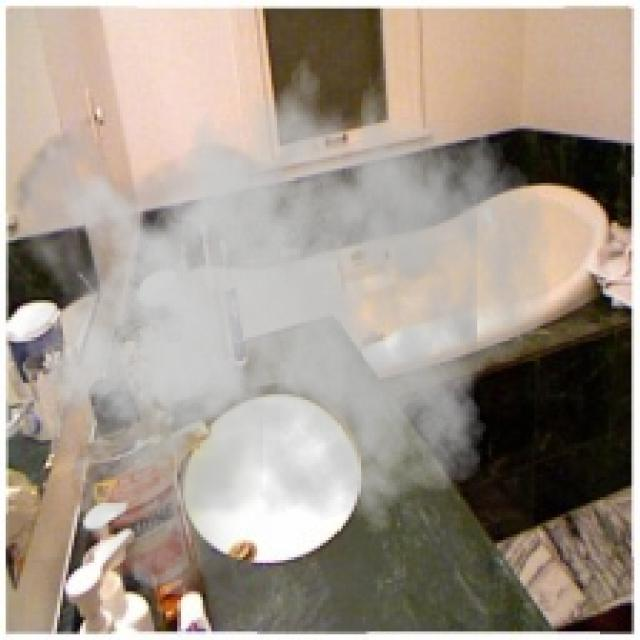smoke: (6, 34, 554, 594)
